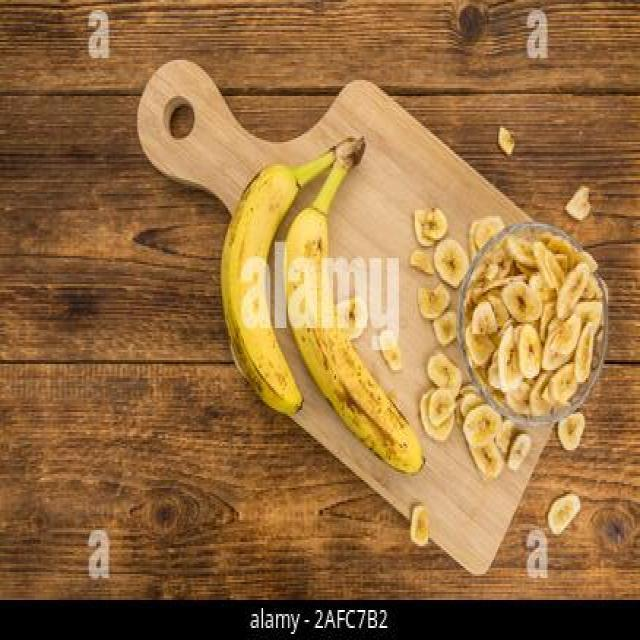Banana: (218, 128, 431, 488)
